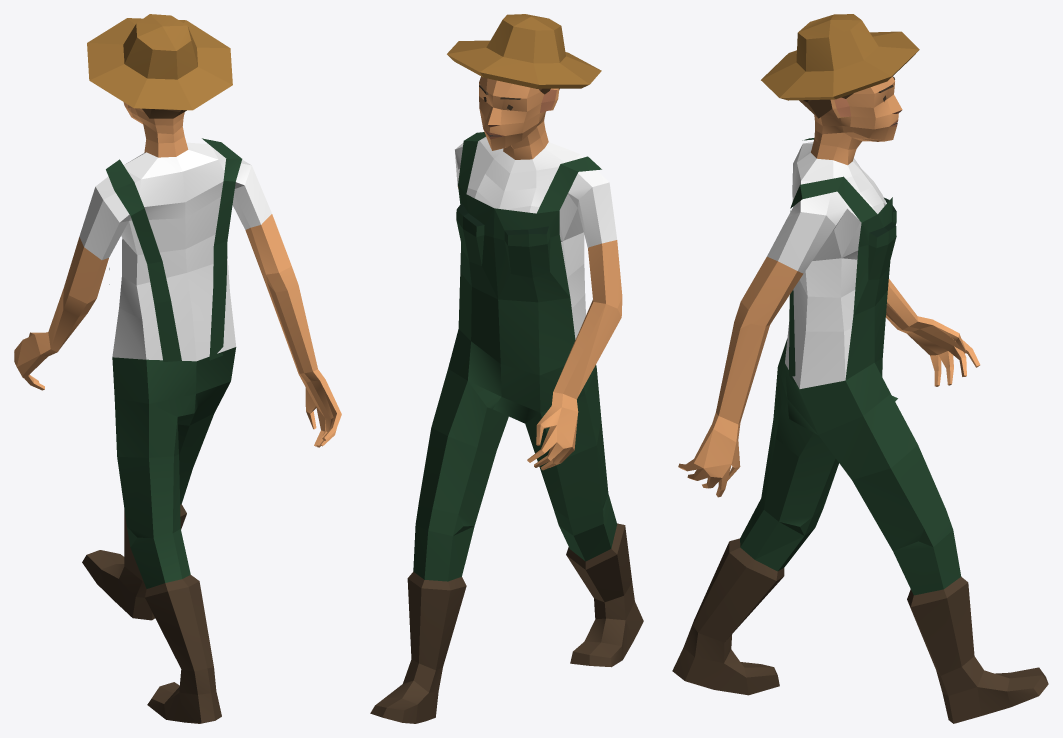
3 views of the same model, side by side, from view 1: azimuth 30°, elevation 25°; view 2: azimuth 150°, elevation 25°; view 3: azimuth 270°, elevation 25° (orthographic). The views are drawn at different scales.
Parts seen in each view (by area): view 1: woman-farm.001; view 2: woman-farm.001; view 3: woman-farm.001.
Boxes of the visible parts, x1=… form: woman-farm.001: x1=14, y1=14, x2=341, y2=723; woman-farm.001: x1=370, y1=14, x2=643, y2=723; woman-farm.001: x1=672, y1=14, x2=1048, y2=723.
Bounding box in the file's own units: 0.6061 × 1.78 × 0.8923.
Materials: 1 (1 with a texture image).
